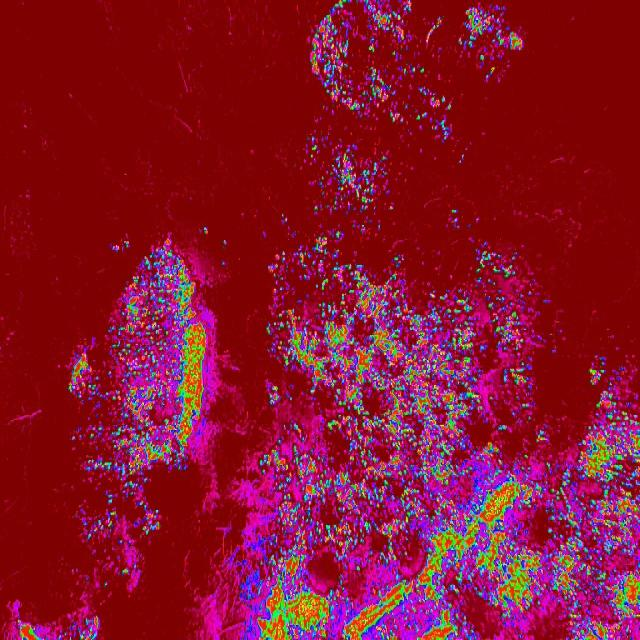fire: (263, 245, 547, 640), (118, 231, 216, 467), (68, 347, 158, 546), (583, 360, 640, 640), (304, 0, 528, 70), (317, 70, 453, 128), (547, 441, 584, 640), (318, 143, 394, 225), (234, 455, 264, 640), (0, 601, 116, 640)
